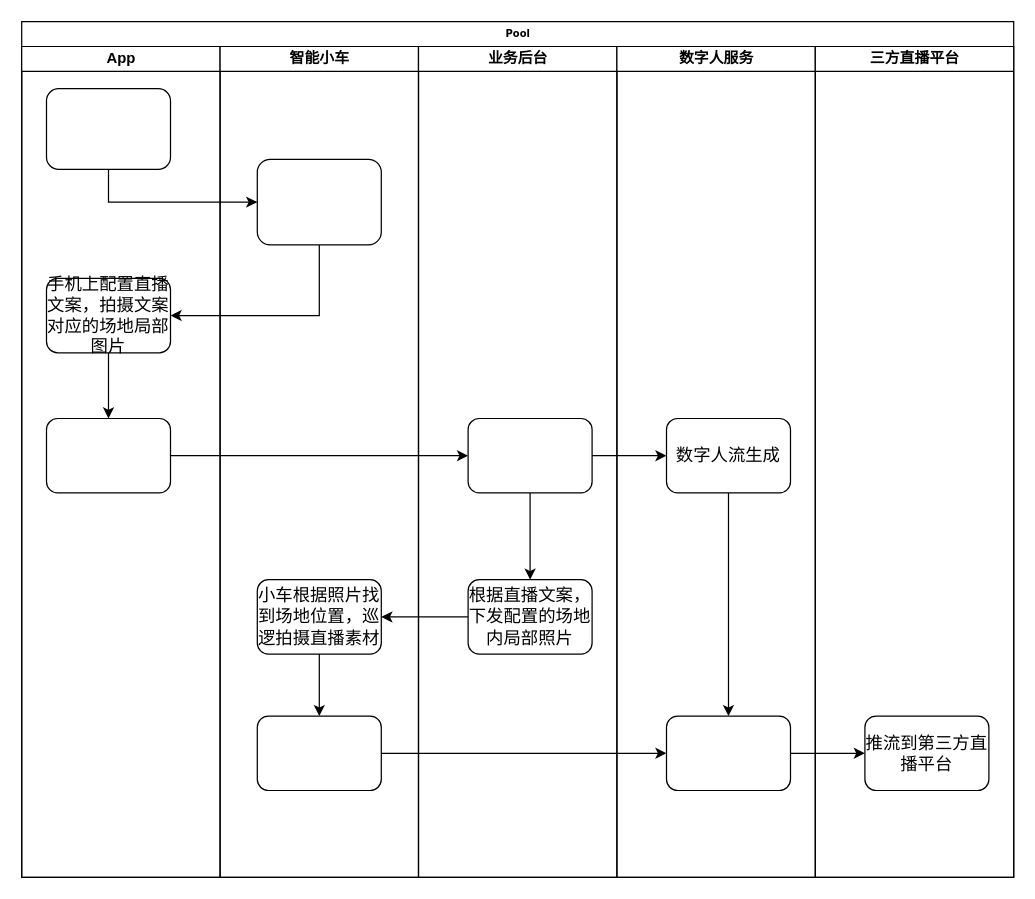
The diagram is 1035 pixels wide and 899 high, and some of its shapes have lost their labels. Each missing label, with the centre of its shape:
"发起直播场地地图建模指令" belongs at (x=107, y=128).
"小车将直播素材实时上传到数字人服务" belongs at (x=318, y=752).
"小车开始在场地内地图建模" belongs at (x=318, y=201).
"数字人视频流与小车视频流合并" belongs at (x=727, y=752).
"记录直播脚本，开启直播间" belongs at (x=529, y=455).
"选择数字人形象声音开启直播" belongs at (x=107, y=455).
